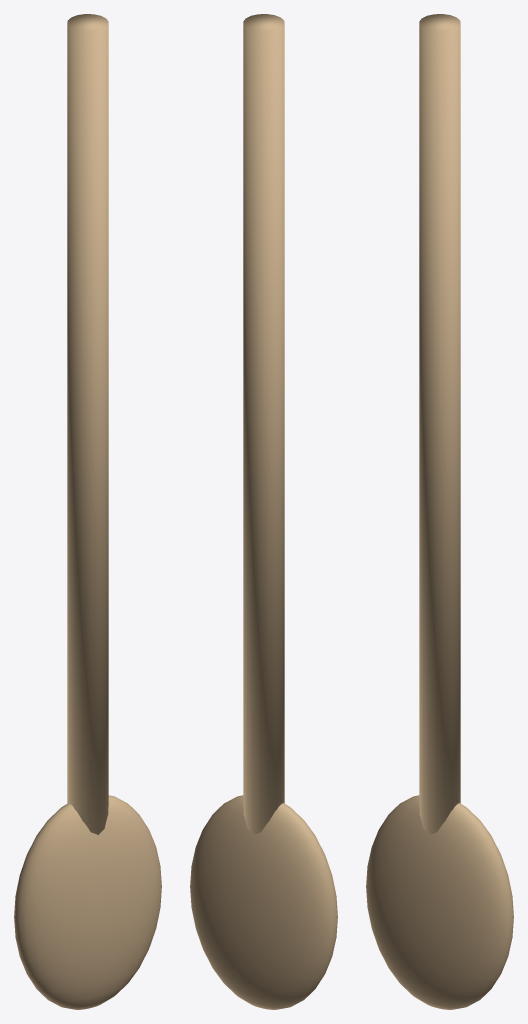
File: wooden_spoon.gltf
3 renders of one model, left to right at view 1: azimuth 30°, elevation 25°; view 2: azimuth 150°, elevation 25°; view 3: azimuth 330°, elevation 25°, orthographic.
Parts seen in each view (by area): view 1: Handle.001, Bowl.001; view 2: Handle.001, Bowl.001; view 3: Handle.001, Bowl.001.
Part boxes in pixels (x1,y1,x2,y2): Handle.001: [67, 14, 108, 834]; Bowl.001: [14, 795, 161, 1009]; Handle.001: [243, 14, 284, 834]; Bowl.001: [190, 795, 337, 1009]; Handle.001: [419, 14, 460, 834]; Bowl.001: [366, 795, 513, 1009].
Size of the model in its own units: 0.044 by 0.2858 by 0.0154.
